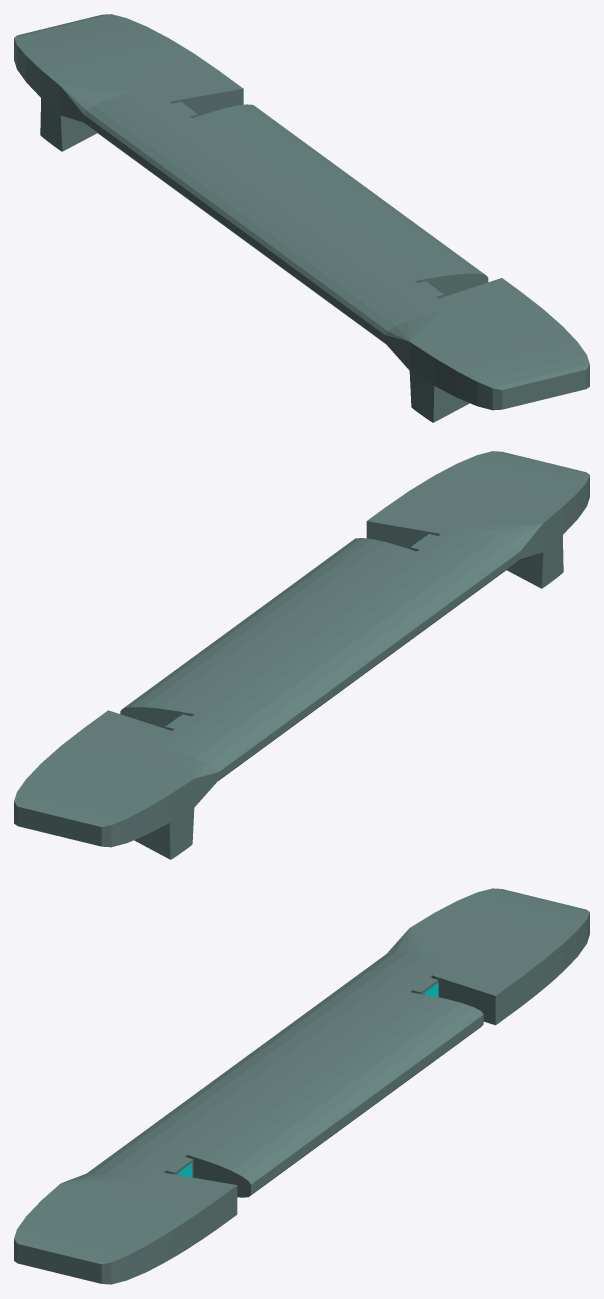
The model's file is Shelf.fbx.
3 renders of one model, top to bottom at view 1: azimuth 30°, elevation 25°; view 2: azimuth 150°, elevation 25°; view 3: azimuth 330°, elevation 25°, orthographic.
Visible parts, largest first — view 1: Cube; view 2: Cube; view 3: Cube.
Part boxes in pixels (x1,y1,x2,y2): Cube: (14,14,589,422); Cube: (14,451,589,859); Cube: (14,888,589,1284).
Size of the model in its own units: 65.35 by 30.73 by 405.
